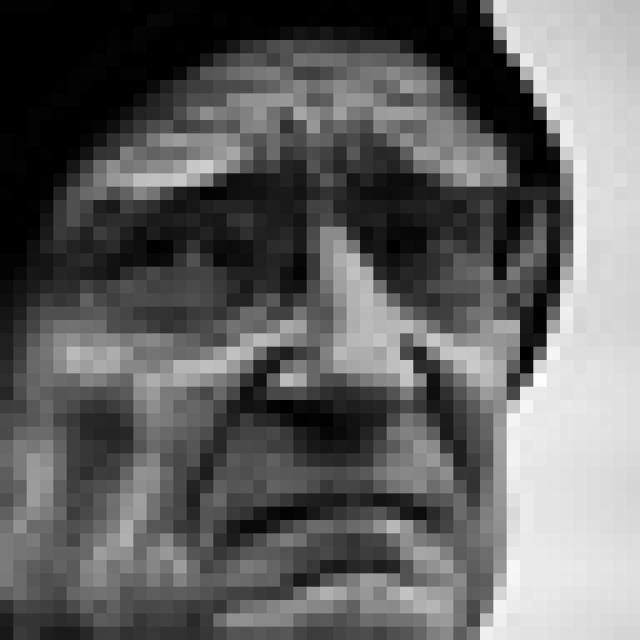sad: (70, 102, 486, 611)
